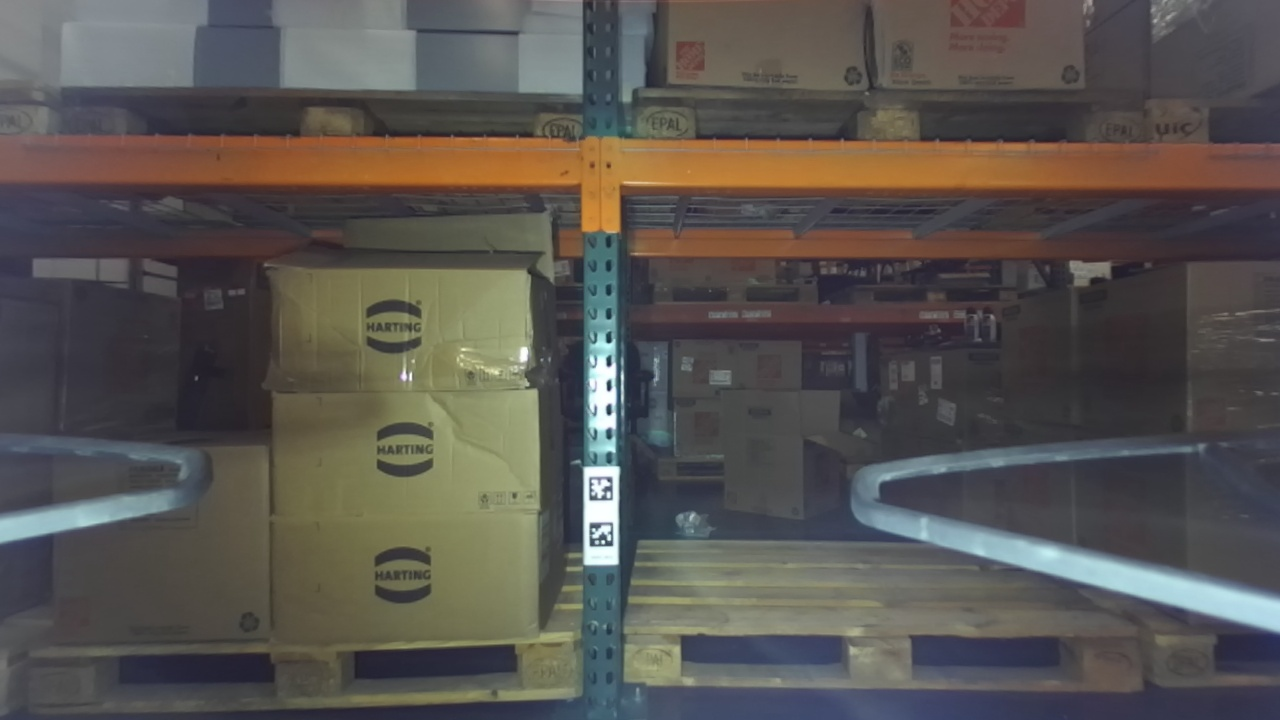box: (257, 240, 554, 394), (256, 498, 587, 629), (260, 374, 556, 507), (645, 1, 882, 97), (875, 1, 1095, 94)
